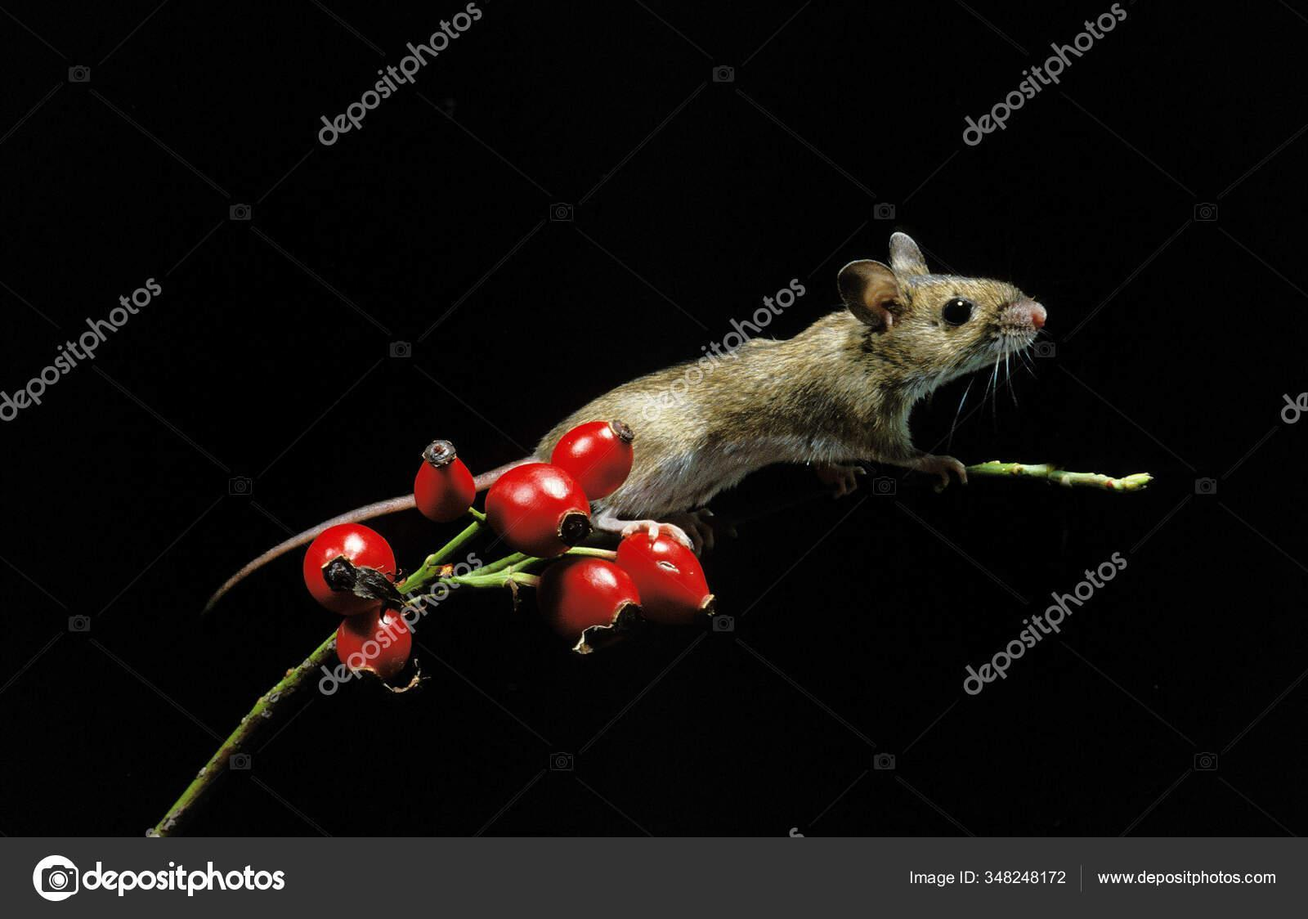rat: (215, 231, 1047, 592)
